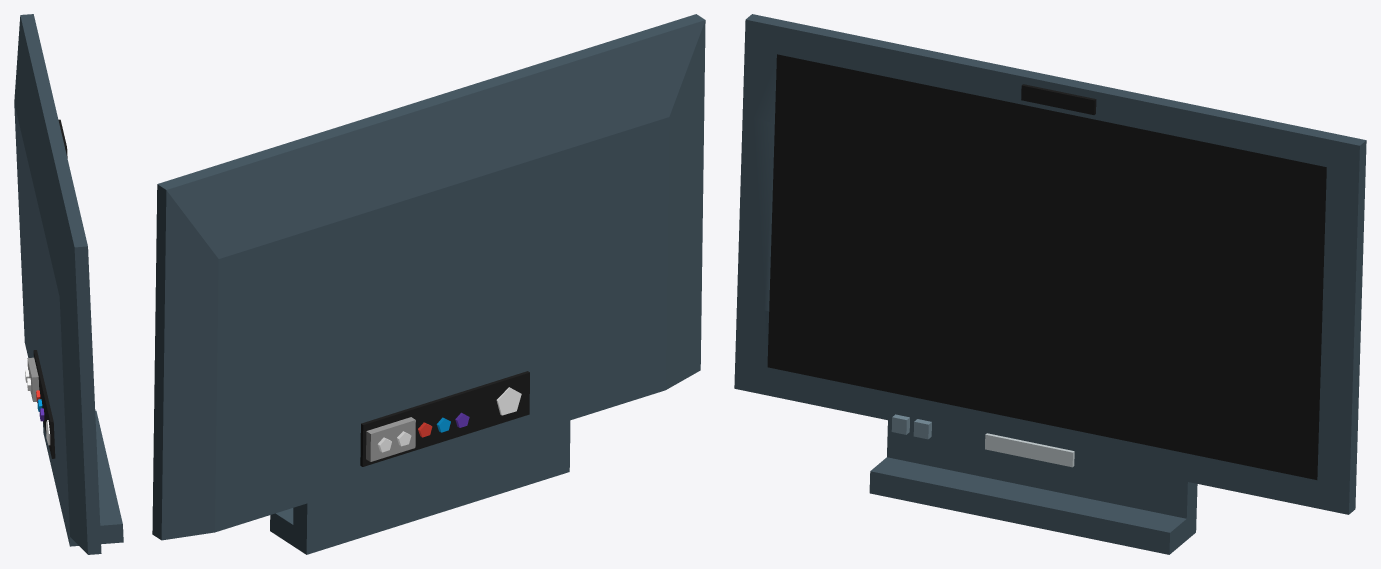
3 views of the same model, side by side, from view 1: azimuth 30°, elevation 25°; view 2: azimuth 150°, elevation 25°; view 3: azimuth 270°, elevation 25° (orthographic). The views are drawn at different scales.
Visible parts, largest first — view 1: group79582823.053, group79582823.040, group79582823.052, group79582823.017, group79582823.054, group79582823.027, group79582823.059, group79582823.078, group79582823.022, group79582823.042, group79582823.045, group79582823.039 (+16 smaller); view 2: group79582823.017, group79582823.054, group79582823.059, group79582823.040, group79582823.056, group79582823.001, group79582823.027, group79582823.012, group79582823.022, group79582823.011, group79582823.045, group79582823.053 (+28 smaller); view 3: group79582823.049, group79582823.055, group79582823.058, group79582823.072, group79582823.057, group79582823.007, group79582823.016, group79582823.014, group79582823.031, group79582823.029, group79582823.162, group79582823.018 (+38 smaller).
Part boxes in pixels (x1,y1,x2,y2): group79582823.053: (60,313,84,485); group79582823.040: (34,117,61,276); group79582823.052: (78,324,98,486); group79582823.017: (18,131,37,290); group79582823.054: (47,284,66,467); group79582823.027: (22,64,43,186); group79582823.059: (35,224,59,437); group79582823.078: (67,470,87,554); group79582823.022: (14,16,31,134); group79582823.042: (74,246,91,324); group79582823.045: (55,191,74,296); group79582823.039: (44,115,74,190); group79582823.017: (229,237,413,421); group79582823.054: (515,135,668,335); group79582823.059: (406,237,594,385); group79582823.040: (402,62,622,197); group79582823.056: (296,131,625,240); group79582823.001: (278,307,478,453); group79582823.027: (279,116,413,234); group79582823.012: (215,368,280,532); group79582823.022: (166,154,295,258); group79582823.011: (161,375,217,540); group79582823.045: (573,20,705,131); group79582823.053: (666,109,704,312); group79582823.049: (769,167,968,332); group79582823.055: (894,111,1122,226); group79582823.058: (918,213,1088,340); group79582823.072: (860,283,1033,414); group79582823.057: (1123,203,1285,374); group79582823.007: (1225,331,1321,479); group79582823.016: (1083,210,1241,391); group79582823.014: (1034,285,1226,423); group79582823.031: (848,76,1051,166); group79582823.029: (1086,118,1224,210); group79582823.162: (996,340,1195,437); group79582823.018: (1215,146,1326,253).
Bounding box in the file's own units: 41.12 × 63.4 × 84.7.
